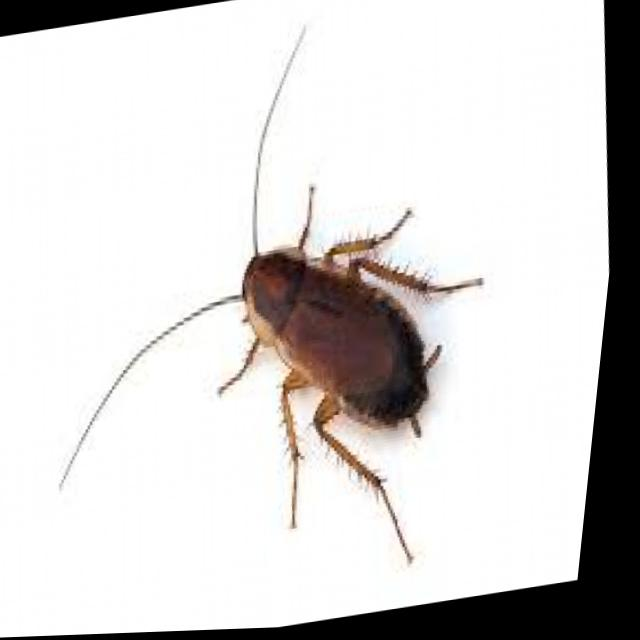Cockroach: (0, 0, 558, 633)
